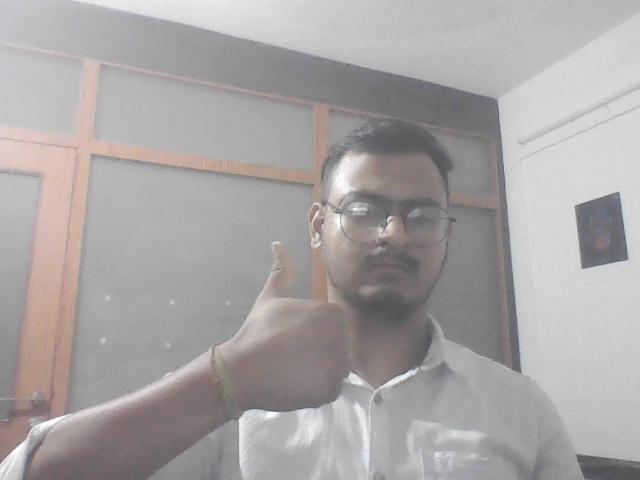Good: (243, 234, 364, 424)
